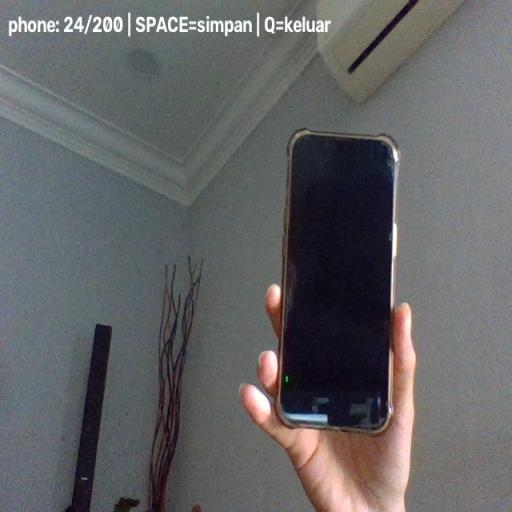Phone: (275, 128, 400, 436)
